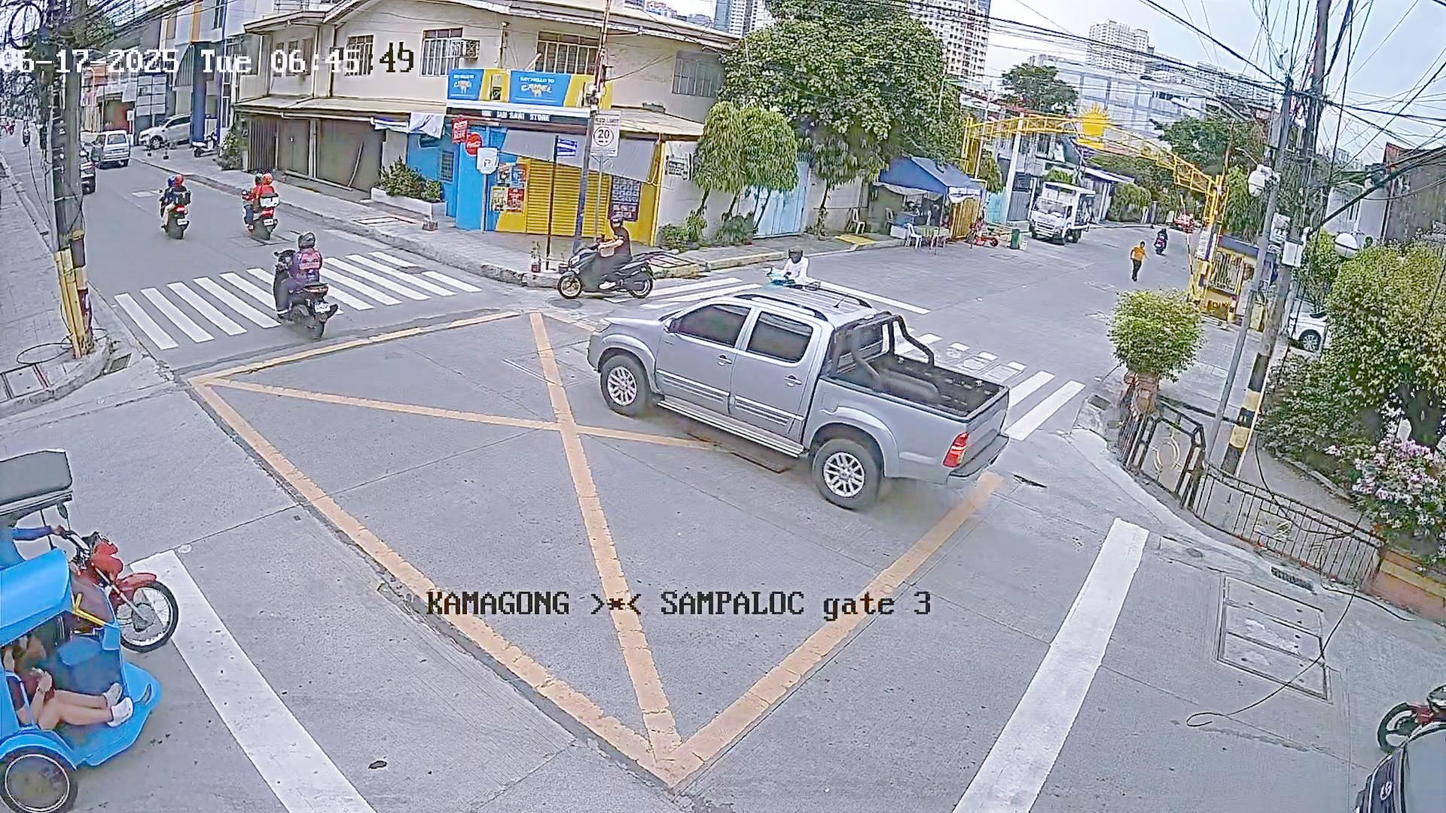Car: (563, 274, 1039, 536)
Motor: (239, 220, 352, 344), (552, 212, 660, 295), (222, 164, 309, 235), (149, 174, 217, 253), (759, 237, 831, 299)
